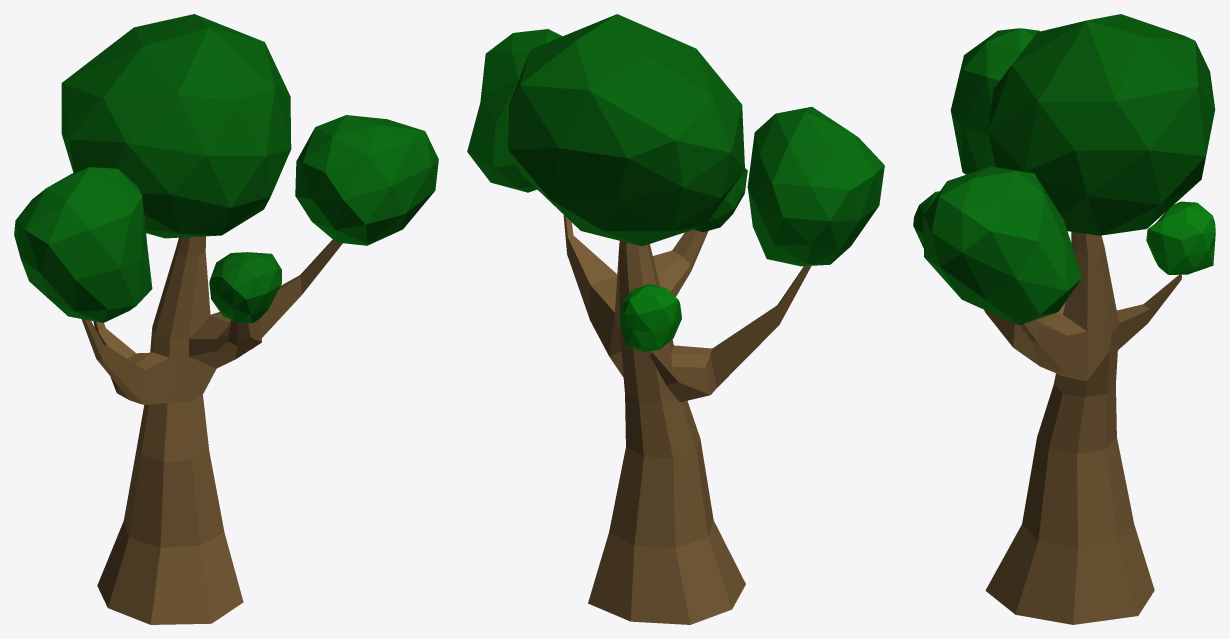
Rendered from tree.fbx.
The picture shows the model from 3 angles, left to right: view 1: azimuth 30°, elevation 25°; view 2: azimuth 150°, elevation 25°; view 3: azimuth 270°, elevation 25°; orthographic projection. The views are drawn at different scales.
Visible parts, largest first — view 1: Icosphere.004, Cylinder, Icosphere, Icosphere.001, Icosphere.002; view 2: Icosphere.004, Cylinder, Icosphere, Icosphere.001, Icosphere.003, Icosphere.002; view 3: Icosphere.004, Cylinder, Icosphere.001, Icosphere, Icosphere.003, Icosphere.002.
Boxes of the visible parts, <box> form: Icosphere.004: <box>61,14,291,238</box>; Cylinder: <box>81,236,342,624</box>; Icosphere: <box>14,167,152,322</box>; Icosphere.001: <box>295,115,438,245</box>; Icosphere.002: <box>209,252,281,323</box>; Icosphere.004: <box>508,14,744,246</box>; Cylinder: <box>563,215,811,624</box>; Icosphere: <box>747,107,884,266</box>; Icosphere.001: <box>467,29,562,192</box>; Icosphere.003: <box>620,284,681,351</box>; Icosphere.002: <box>694,168,747,232</box>; Icosphere.004: <box>987,14,1215,235</box>; Cylinder: <box>984,231,1181,624</box>; Icosphere.001: <box>923,166,1082,325</box>; Icosphere: <box>950,28,1039,174</box>; Icosphere.003: <box>1146,201,1215,274</box>; Icosphere.002: <box>913,191,939,247</box>.
Bounding box in the file's own units: 1508 × 2046 × 945.
